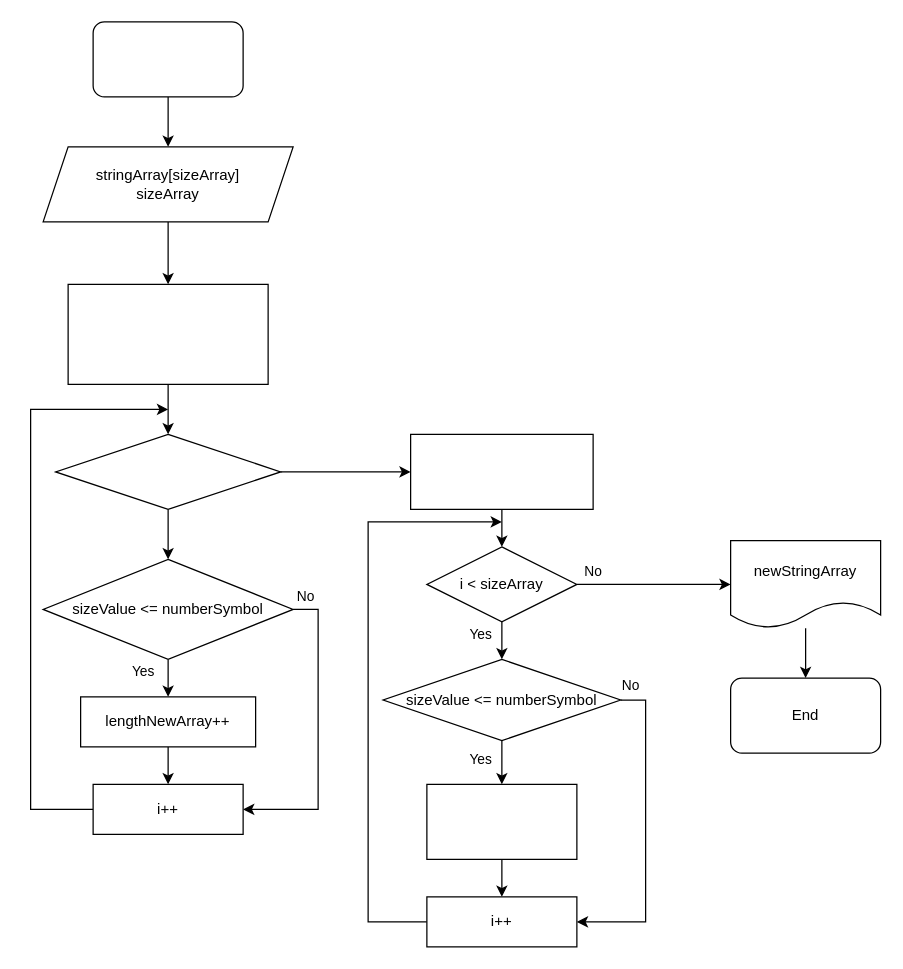
Some shapes in this 903 by 969 pixel diagram are drawn without their labels. Here are the shapes that lost their labels. From the top down, the box of each, then its label:
(92, 21, 243, 97): Start
(67, 283, 268, 384): lengthNewArray = 0 i = 0 value = stringArray[i] sizeValue numberSymbol = 3
(54, 433, 281, 509): i = sizeArray
(409, 433, 593, 509): newStringArray = string[lengthArray] i = 0 j = 0
(426, 783, 577, 859): newStringArray[j] = stringArray[i] j++
